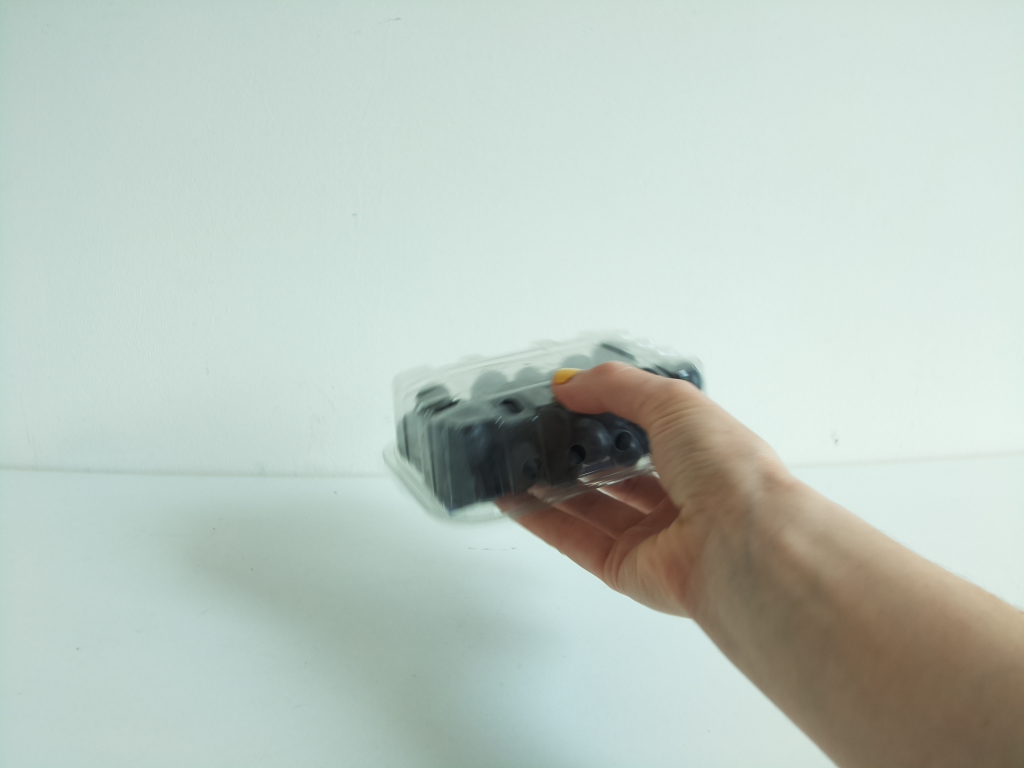soft-fruit: (382, 328, 717, 526)
